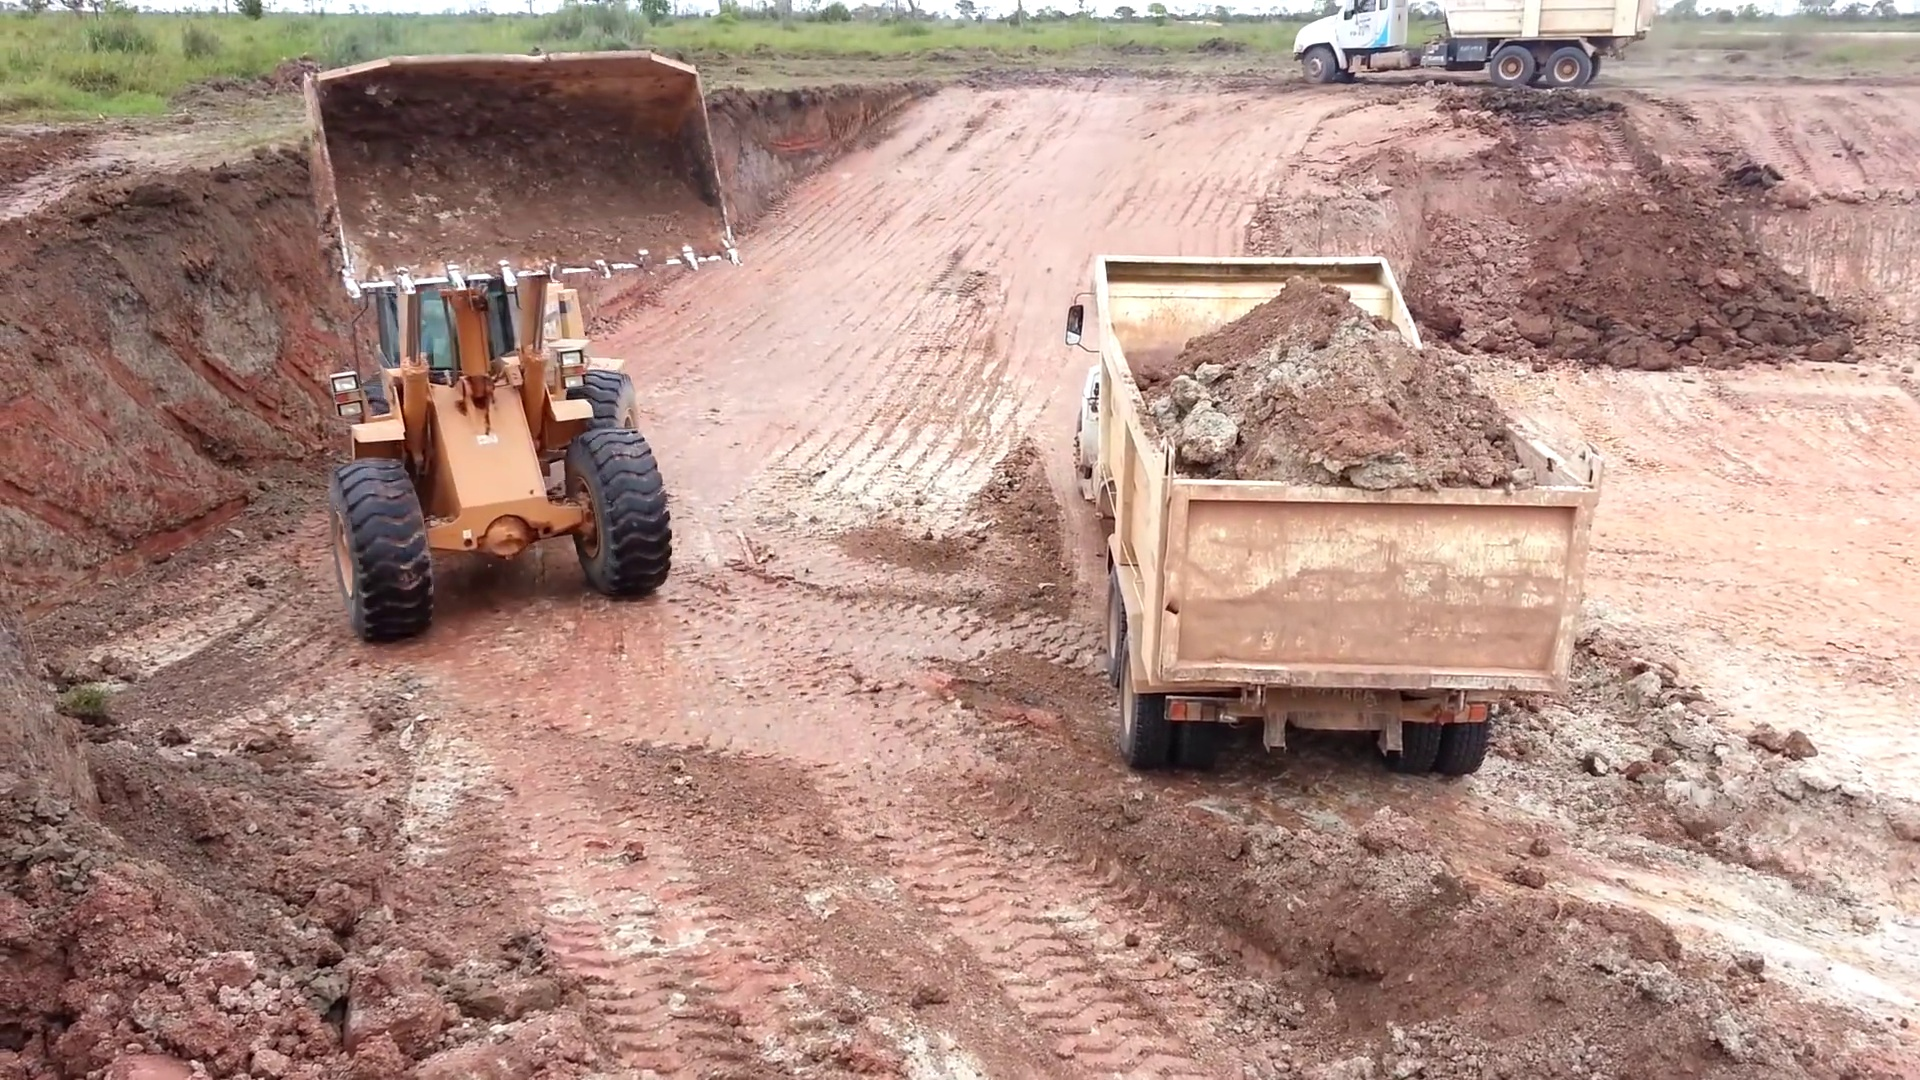dumper: (1062, 249, 1604, 774)
truck: (1291, 1, 1656, 91)
wheel loader: (295, 47, 742, 649)
